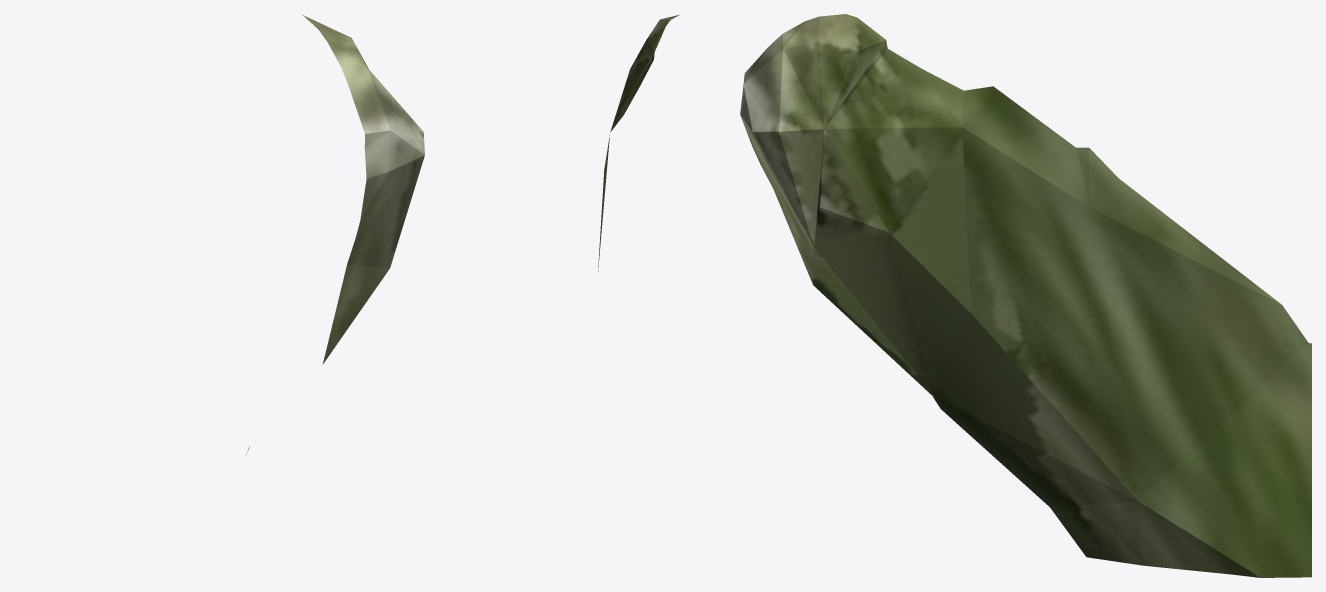
3 views of the same model, side by side, from view 1: azimuth 30°, elevation 25°; view 2: azimuth 150°, elevation 25°; view 3: azimuth 270°, elevation 25° (orthographic). The views are drawn at different scales.
Bounding box in the file's own units: 0.1669 × 1.25 × 1.2.
Materials: 1 (1 with a texture image).
